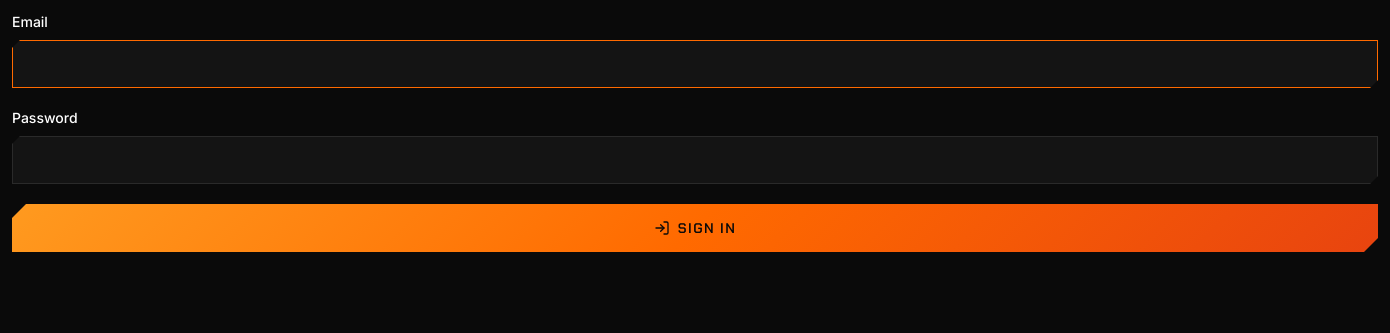
Scenario: admin auth › login: wrong password shows an error; right one redirects to ?next
Later steps or results of the test are not shown.
Type "sales@digixsquad.test" into the field labelled "Email" at (695, 64), box left=12, top=40, right=1378, bottom=88
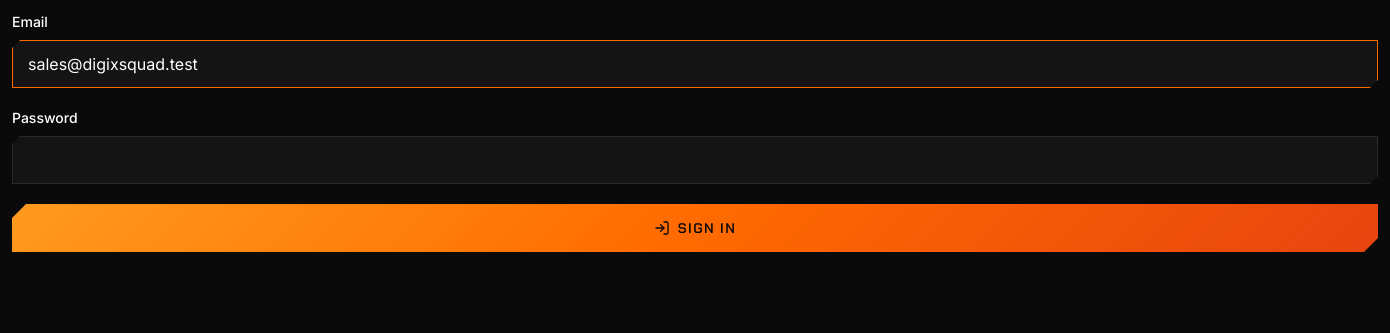
Type "wrong-password" into the password field labelled "Password" at (695, 160), box left=12, top=136, right=1378, bottom=184
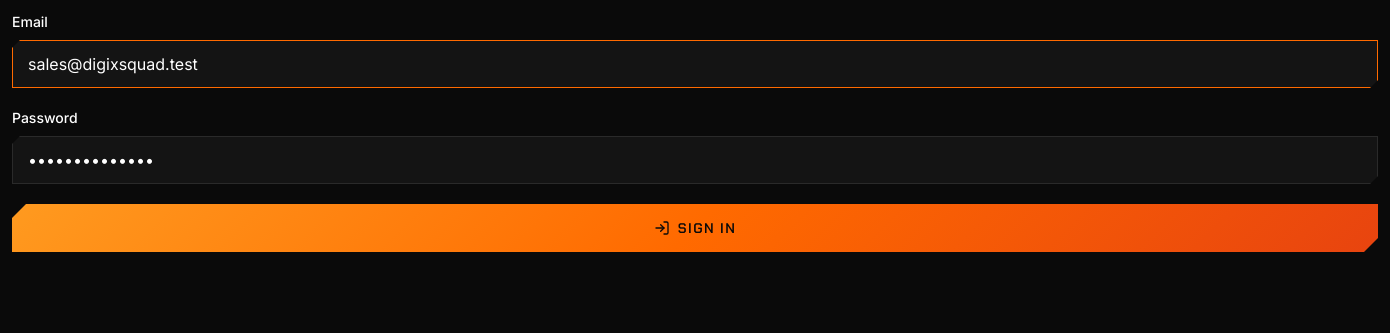
Click the button "Sign in" at (695, 228), box left=12, top=204, right=1378, bottom=252
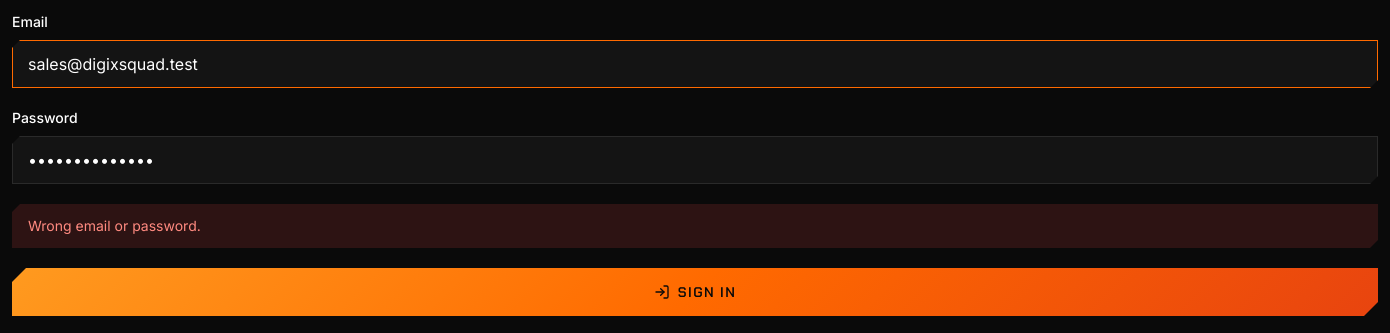
Check: the text "Wrong email or password." is shown, box left=12, top=204, right=1378, bottom=248
